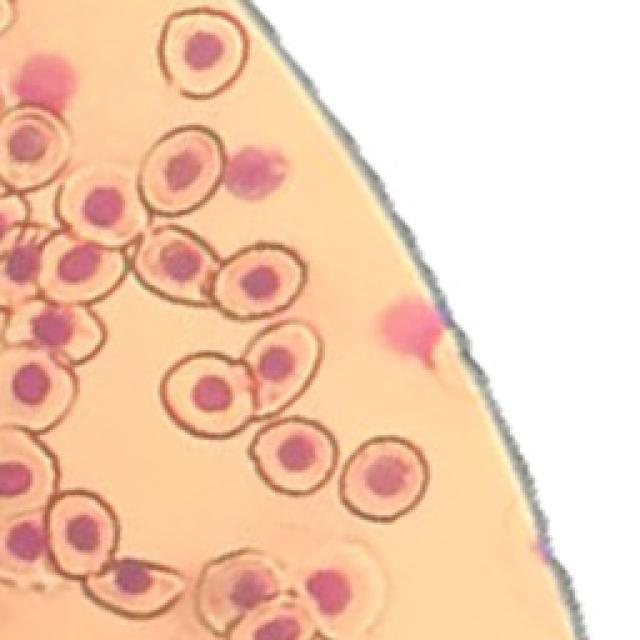RBC: (159, 8, 248, 99), (161, 352, 254, 438), (198, 549, 288, 634), (140, 125, 225, 214), (340, 436, 429, 521), (59, 164, 148, 248), (244, 321, 321, 417), (214, 244, 304, 319), (250, 418, 338, 494), (134, 226, 219, 304), (0, 346, 76, 431), (46, 490, 119, 578), (5, 301, 105, 362), (39, 234, 125, 304), (0, 105, 70, 191), (85, 558, 185, 617), (0, 428, 58, 516), (0, 222, 50, 307), (229, 596, 315, 639)
WBC: (14, 55, 75, 114), (224, 148, 286, 200), (306, 570, 350, 615), (6, 521, 46, 561)
